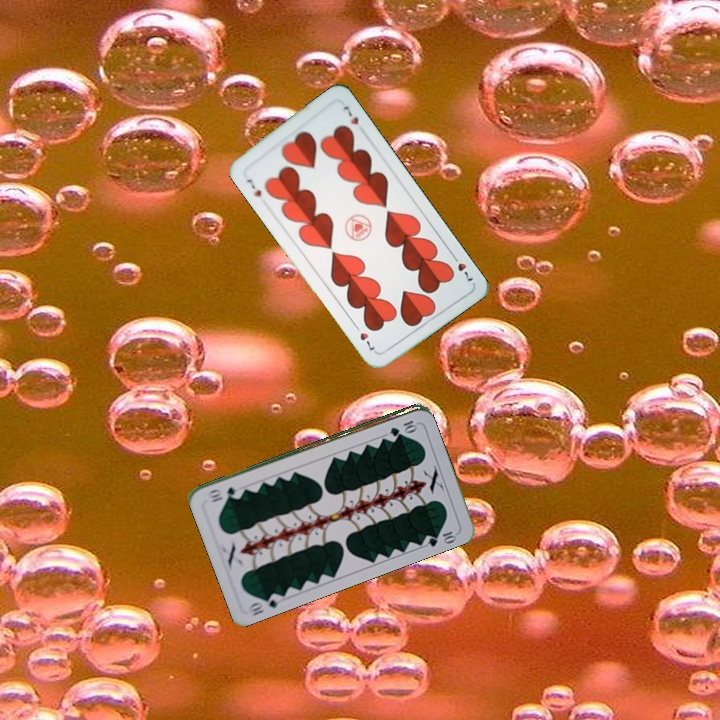G10: (246, 589, 285, 619), (385, 416, 419, 437)
H7: (448, 250, 476, 285), (243, 175, 264, 200)
